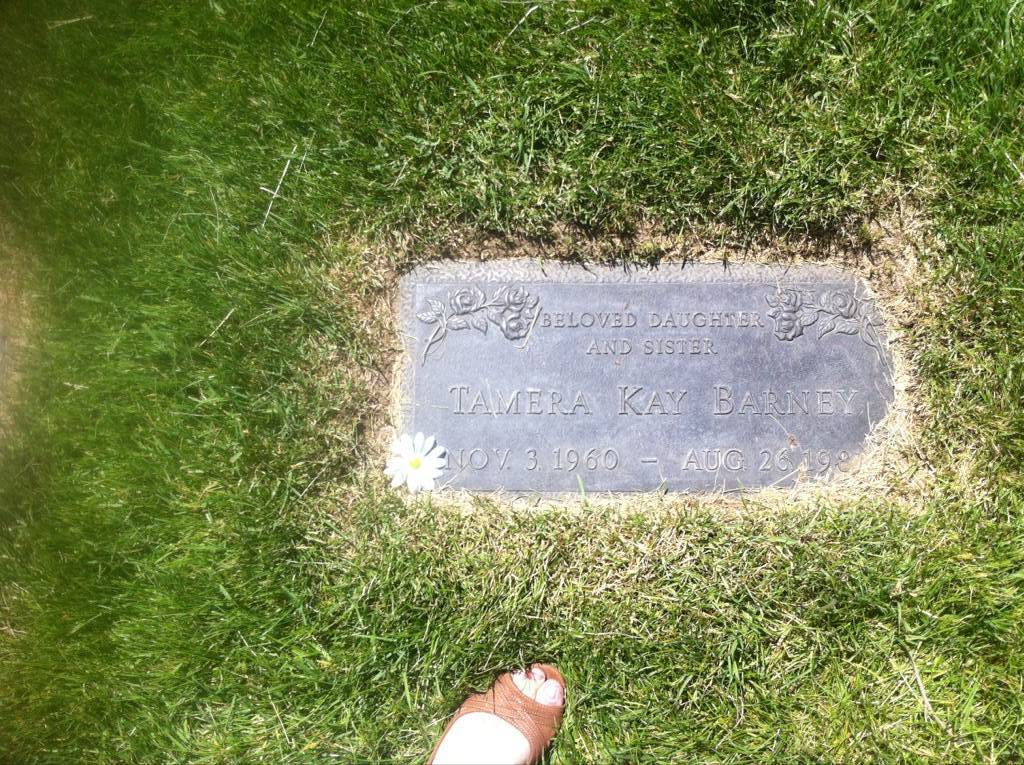flat: (396, 236, 905, 504)
